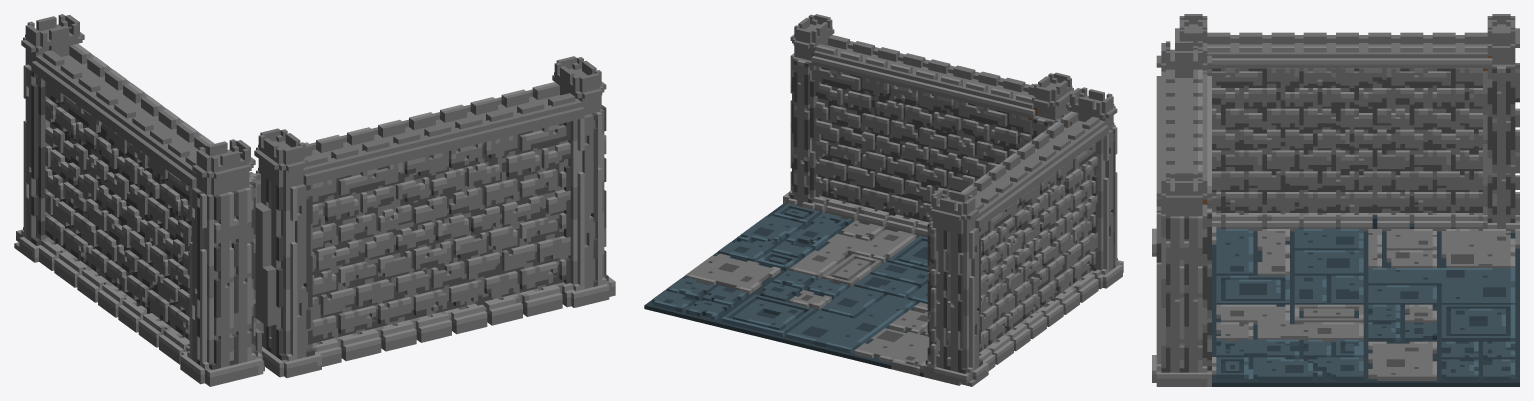
File: wall_E_esquina_abajo_izquierda.obj
3 renders of one model, left to right at view 1: azimuth 30°, elevation 25°; view 2: azimuth 150°, elevation 25°; view 3: azimuth 270°, elevation 25°, orthographic. The views are drawn at different scales.
Size of the model in its own units: 91 by 48 by 80.
Materials: 1 (1 with a texture image).
